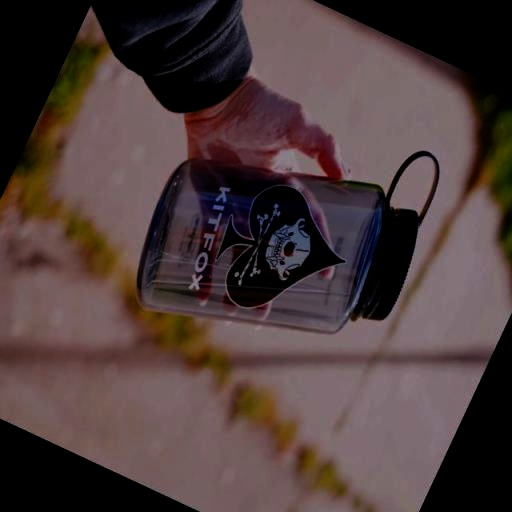bottle: (114, 55, 460, 407)
